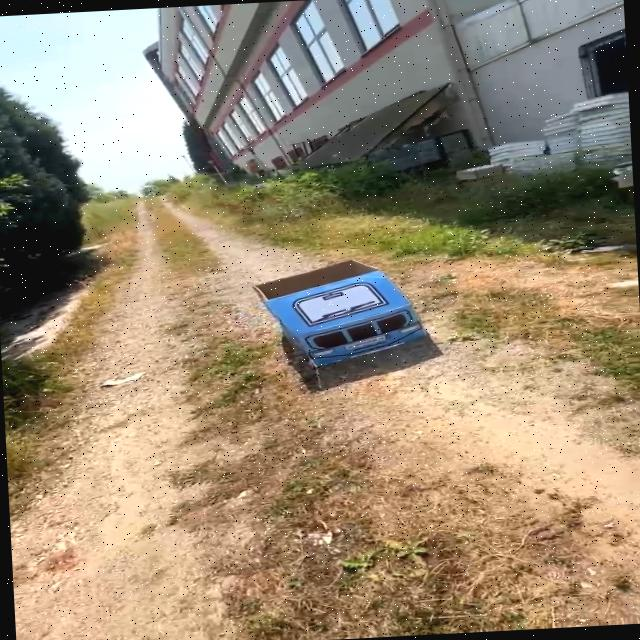blue_car: (247, 241, 446, 392)
